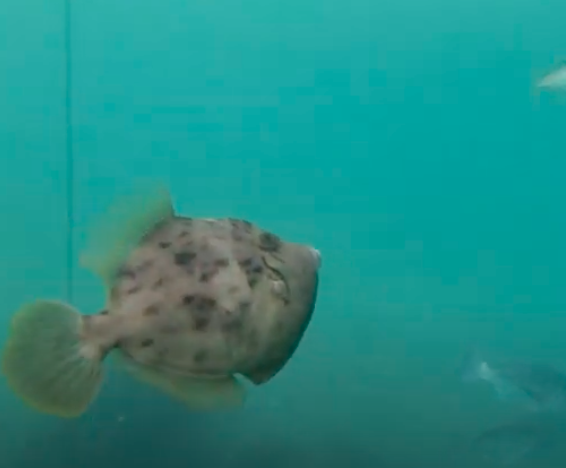kawahagi: (6, 187, 330, 421)
